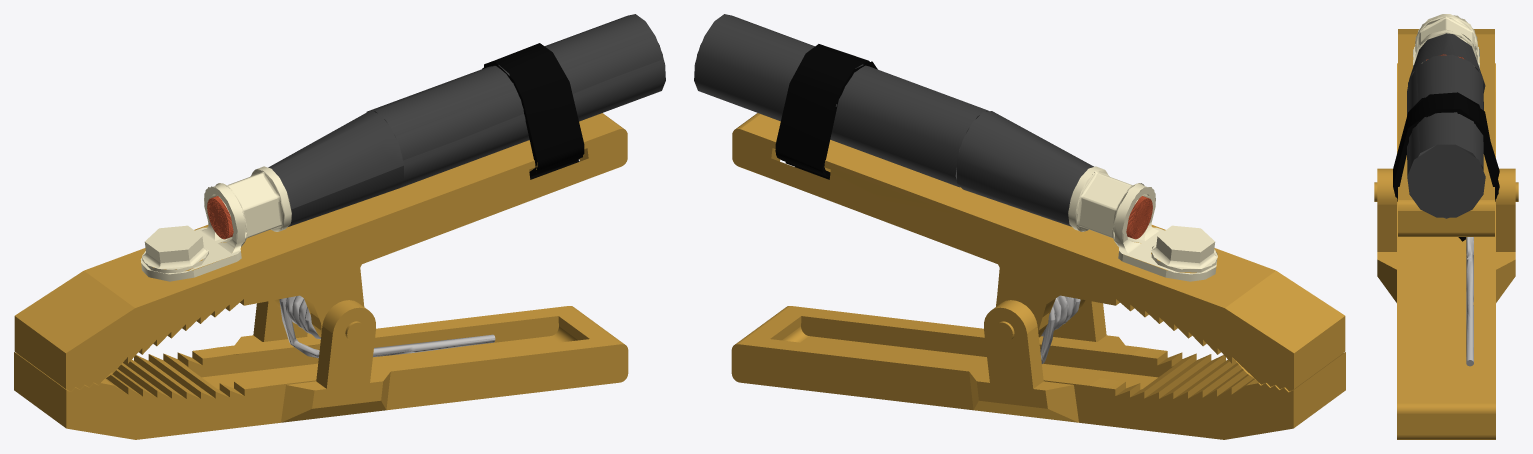
Rendered from WeldClamp 1.glb.
3 views of the same model, side by side, from view 1: azimuth 30°, elevation 25°; view 2: azimuth 150°, elevation 25°; view 3: azimuth 270°, elevation 25° (orthographic). The views are drawn at different scales.
Visible parts, largest first — view 1: Welding Earth Clamp-002.001, Welding Earth Clamp-003, Welding Earth Clamp-002; view 2: Welding Earth Clamp-002, Welding Earth Clamp-003, Welding Earth Clamp-002.001; view 3: Welding Earth Clamp-003, Welding Earth Clamp-002, Welding Earth Clamp-002.001, Welding Earth Clamp-004.
Boxes of the visible parts, left/top/right/bottom form: Welding Earth Clamp-002.001: left=14, top=19, right=665, bottom=391; Welding Earth Clamp-003: left=14, top=300, right=628, bottom=439; Welding Earth Clamp-002: left=14, top=14, right=663, bottom=372; Welding Earth Clamp-002: left=694, top=14, right=1344, bottom=391; Welding Earth Clamp-003: left=731, top=300, right=1345, bottom=439; Welding Earth Clamp-002.001: left=694, top=14, right=1345, bottom=388; Welding Earth Clamp-003: left=1377, top=63, right=1515, bottom=439; Welding Earth Clamp-002: left=1393, top=14, right=1499, bottom=366; Welding Earth Clamp-002.001: left=1393, top=14, right=1499, bottom=366; Welding Earth Clamp-004: left=1374, top=182, right=1518, bottom=201.
Size of the model in its own units: 0.1677 by 0.088 by 0.0365.
